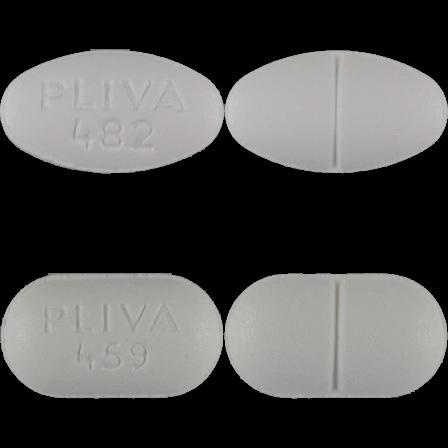42291-814: (0, 0, 224, 224)
